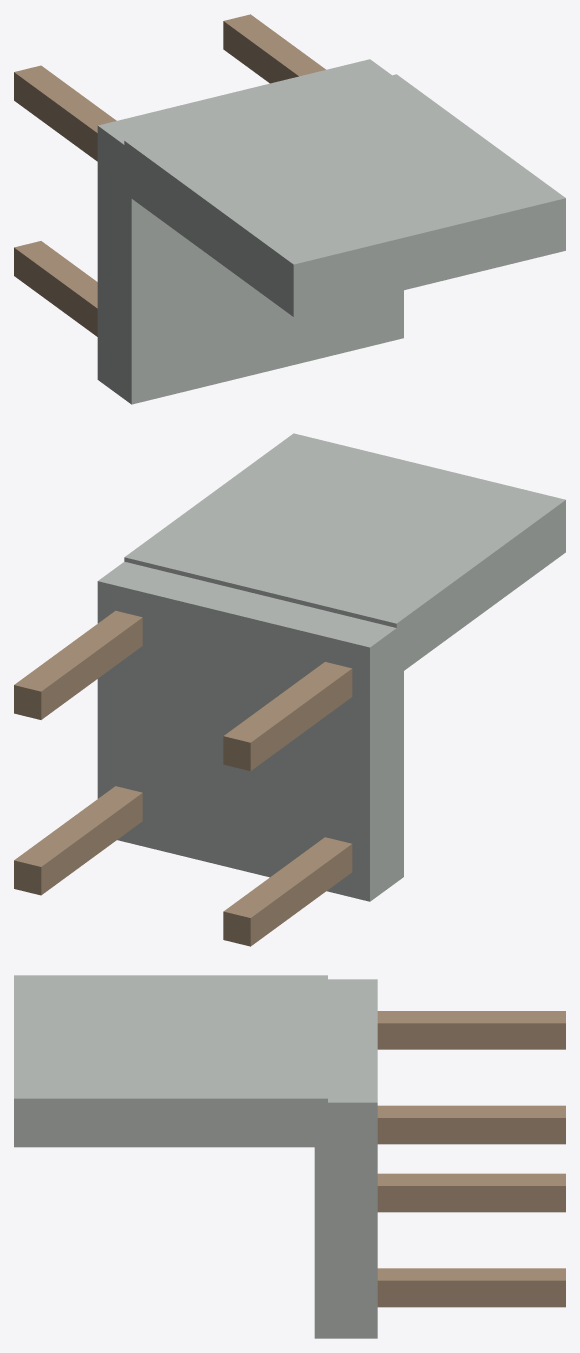
The model's file is chair.glb.
3 renders of one model, top to bottom at view 1: azimuth 30°, elevation 25°; view 2: azimuth 150°, elevation 25°; view 3: azimuth 270°, elevation 25°, orthographic. The views are drawn at different scales.
Visible parts, largest first — view 1: world; view 2: world; view 3: world.
Boxes of the visible parts, x1,y1,x2,y2 form: world: (14,14,565,404); world: (14,433,565,946); world: (14,975,565,1338).
Bounding box in the file's own units: 0.65 × 0.59 × 1.23.
